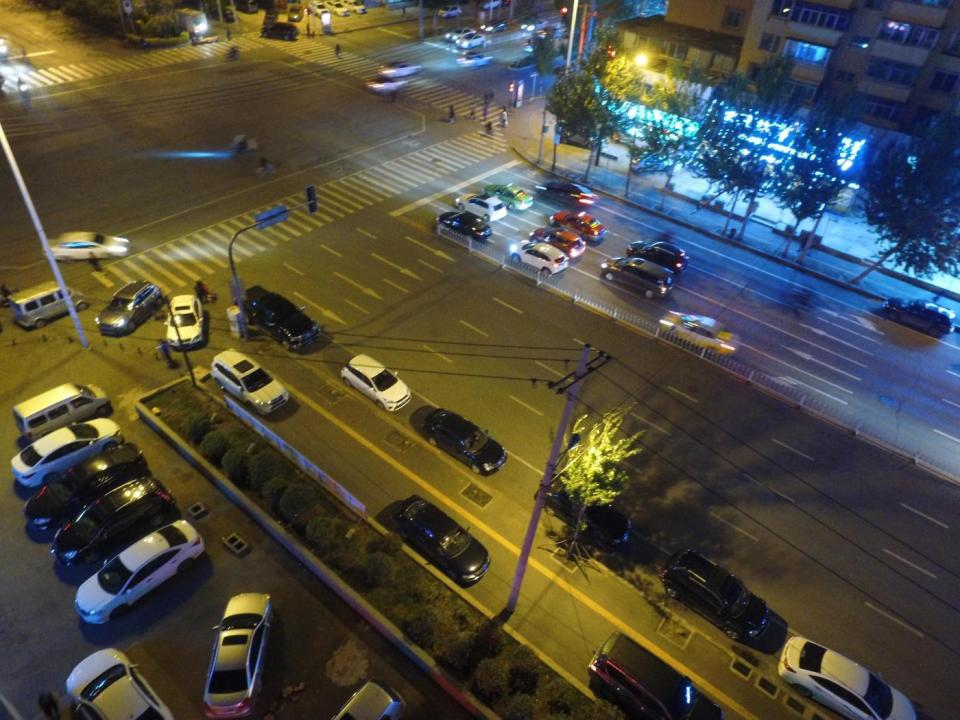car: (73, 518, 206, 624), (21, 441, 147, 535), (777, 636, 916, 720), (659, 544, 769, 642), (56, 478, 174, 564), (394, 493, 492, 587), (204, 592, 274, 720), (64, 646, 172, 720), (10, 418, 124, 488), (535, 473, 632, 549), (423, 408, 508, 478), (209, 347, 292, 415), (341, 352, 413, 412), (659, 308, 739, 356), (96, 282, 163, 335), (42, 230, 128, 266), (881, 295, 953, 337), (629, 236, 688, 276), (508, 239, 567, 276), (164, 295, 205, 348), (549, 210, 607, 243), (527, 226, 586, 257), (437, 211, 492, 244), (543, 180, 599, 209), (455, 191, 505, 220), (485, 182, 533, 212), (630, 153, 674, 175), (365, 74, 408, 95), (375, 60, 422, 79), (259, 22, 297, 40), (457, 51, 494, 69), (456, 32, 485, 50), (478, 20, 507, 35), (446, 28, 476, 42), (522, 18, 549, 32), (437, 4, 462, 18), (344, 0, 367, 15), (328, 1, 348, 18), (305, 3, 327, 17), (236, 1, 259, 13), (539, 27, 562, 39), (288, 4, 303, 20), (263, 10, 279, 24), (524, 43, 546, 52)
truck: (234, 285, 319, 349), (168, 8, 208, 36)
van: (588, 631, 722, 720), (12, 383, 110, 442), (7, 281, 87, 329), (329, 677, 407, 720), (599, 256, 674, 300), (553, 118, 600, 148)
